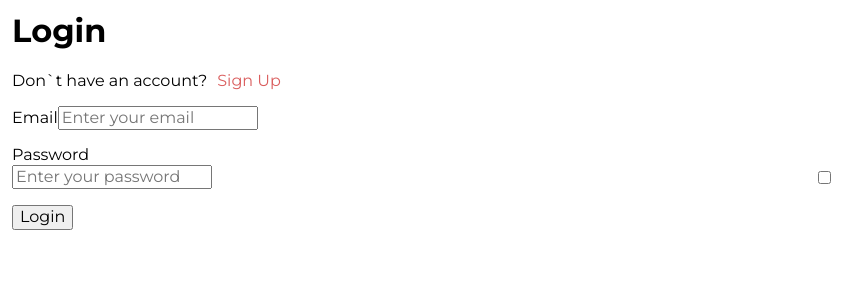
Test case: should show error if password is less than 8 characters
Type "1234" into the password field with placeholder "Enter your password" at (112, 177), box [12,165,212,189]
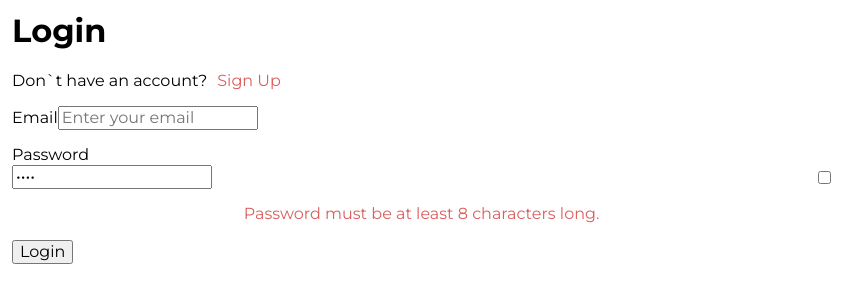
Result: the text with test id "password_error_message" reads "Password must be at least 8 characters long." at [244,204,599,223]
